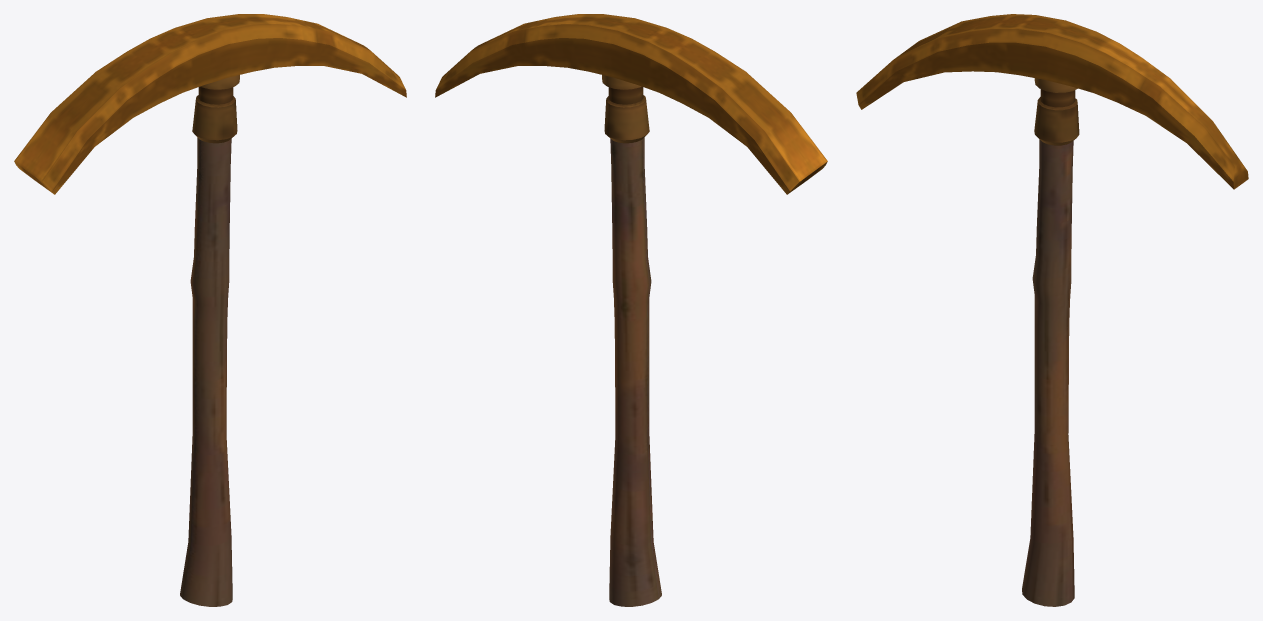
File: pickaxe.glb
The picture shows the model from 3 angles, left to right: view 1: azimuth 30°, elevation 25°; view 2: azimuth 150°, elevation 25°; view 3: azimuth 330°, elevation 25°; orthographic projection.
Visible parts, largest first — view 1: Pickaxe_Bronze; view 2: Pickaxe_Bronze; view 3: Pickaxe_Bronze.
Boxes of the visible parts, x1,y1,x2,y2 form: Pickaxe_Bronze: [14, 14, 406, 606]; Pickaxe_Bronze: [435, 14, 827, 606]; Pickaxe_Bronze: [856, 14, 1248, 606].
Bounding box in the file's own units: 0.8128 × 1.2 × 0.1357.
Materials: 1 (1 with a texture image).
